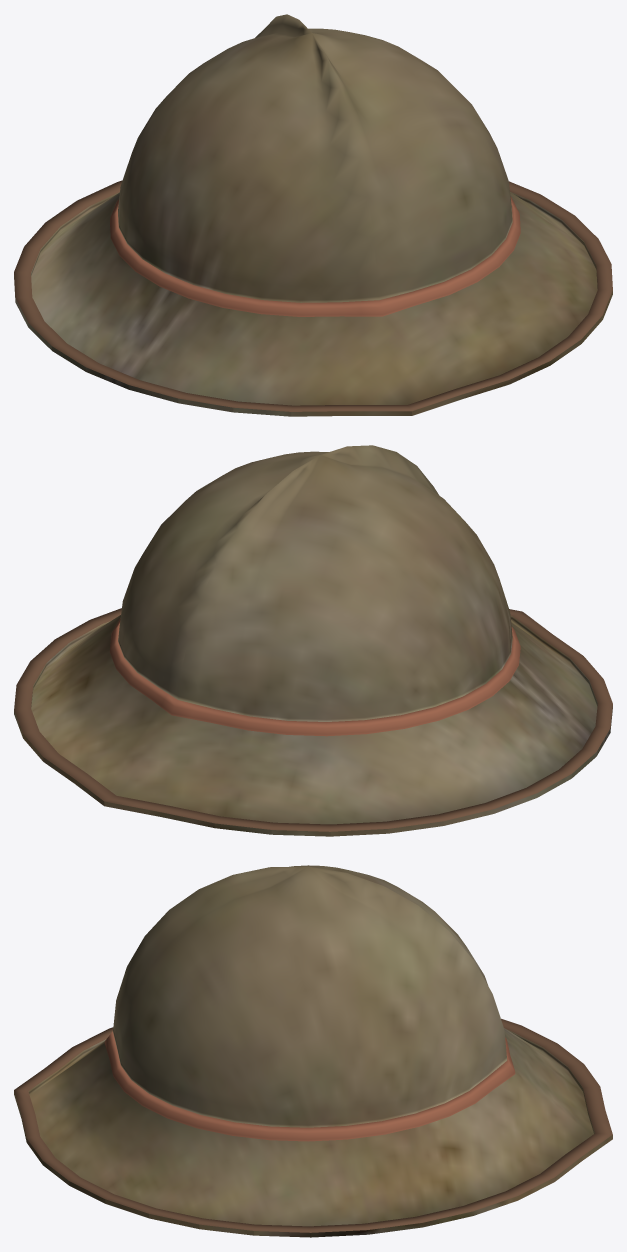
Rendered from casc.glb.
3 renders of one model, top to bottom at view 1: azimuth 30°, elevation 25°; view 2: azimuth 150°, elevation 25°; view 3: azimuth 270°, elevation 25°, orthographic. The views are drawn at different scales.
Parts seen in each view (by area): view 1: Esfera_2; view 2: Esfera_2; view 3: Esfera_2.
Part boxes in pixels (bbox=[...]): Esfera_2: bbox=[14, 14, 612, 416]; Esfera_2: bbox=[14, 445, 612, 836]; Esfera_2: bbox=[14, 865, 612, 1237].
Size of the model in its own units: 3.02 by 1.44 by 3.1.
Materials: 3 (1 with a texture image).
